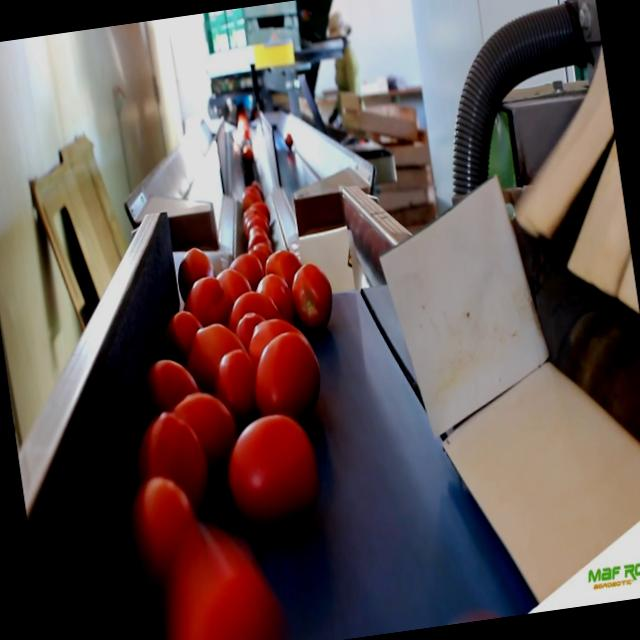Tomato: (168, 522, 283, 640), (222, 400, 326, 530), (132, 404, 210, 508), (126, 476, 200, 566), (251, 330, 325, 418), (171, 387, 238, 471), (140, 353, 200, 416), (290, 258, 341, 330), (179, 276, 232, 330), (190, 324, 247, 370), (254, 270, 297, 328), (216, 348, 258, 406), (228, 288, 280, 334), (172, 242, 217, 292), (168, 303, 202, 354), (218, 262, 252, 306), (265, 246, 298, 286), (232, 250, 264, 288), (282, 130, 296, 152)
